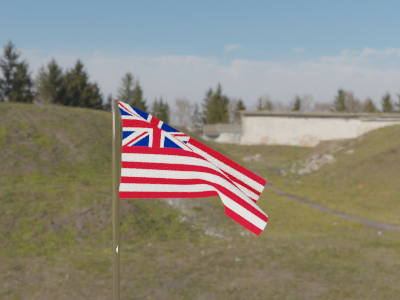Malaysia flag: (115, 101, 275, 237)
